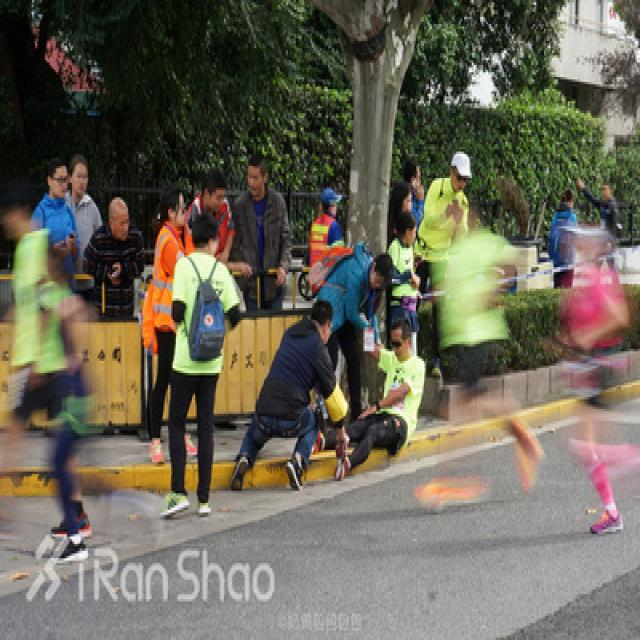10-: (0, 125, 626, 578)
down: (341, 316, 427, 464)
